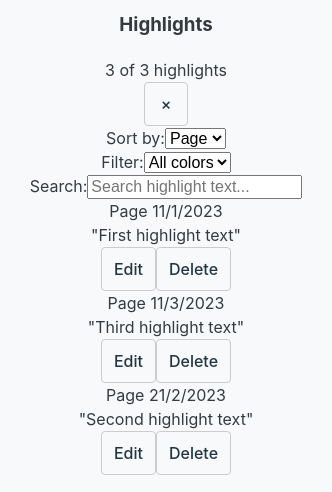
Test case: HighlightList › shows filtered empty state when no matches
Type "nonexistent" into the field with placeholder "Search highlight text..." at (195, 187), box [87,175,302,199]
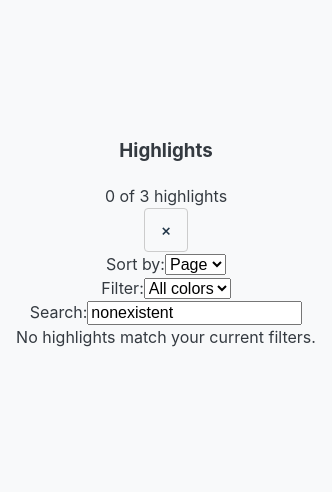
Now the text "No highlights match your current filters." is shown, box [16,325,316,349]
